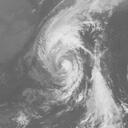cyclone: (42, 49, 85, 85)
